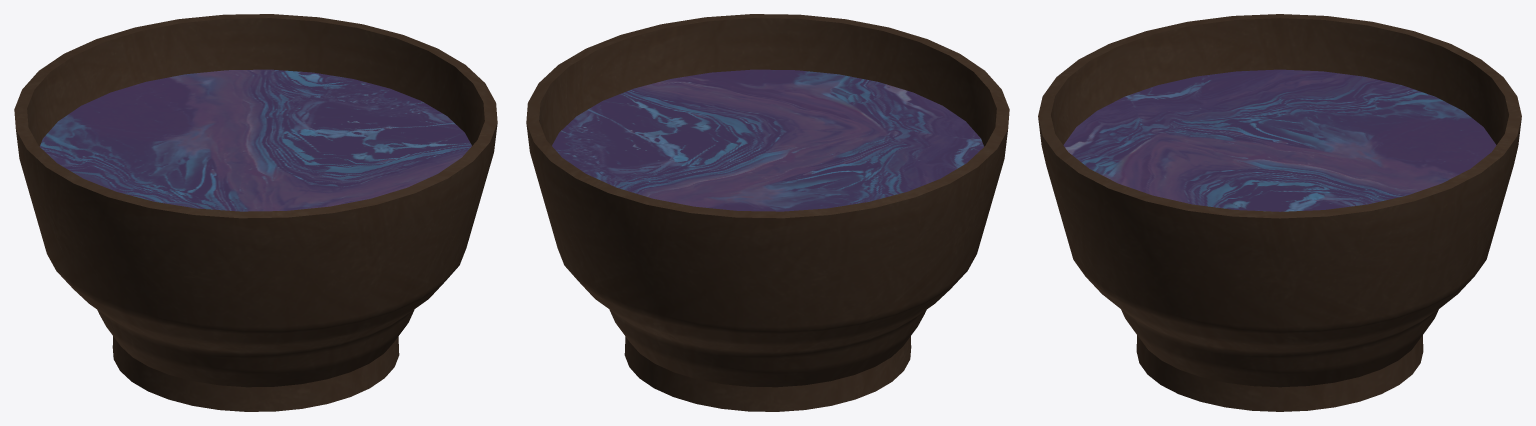
File: Bowl_PainterWater.glb
3 renders of one model, left to right at view 1: azimuth 30°, elevation 25°; view 2: azimuth 150°, elevation 25°; view 3: azimuth 270°, elevation 25°, orthographic.
Parts seen in each view (by area): view 1: Bowl; view 2: Bowl; view 3: Bowl.
Part boxes in pixels (<box>): Bowl: <box>14,14,497,411</box>; Bowl: <box>526,14,1009,411</box>; Bowl: <box>1038,14,1521,411</box>.
Size of the model in its own units: 0.8743 by 0.4712 by 0.8743.
1 material, 1 textured.
